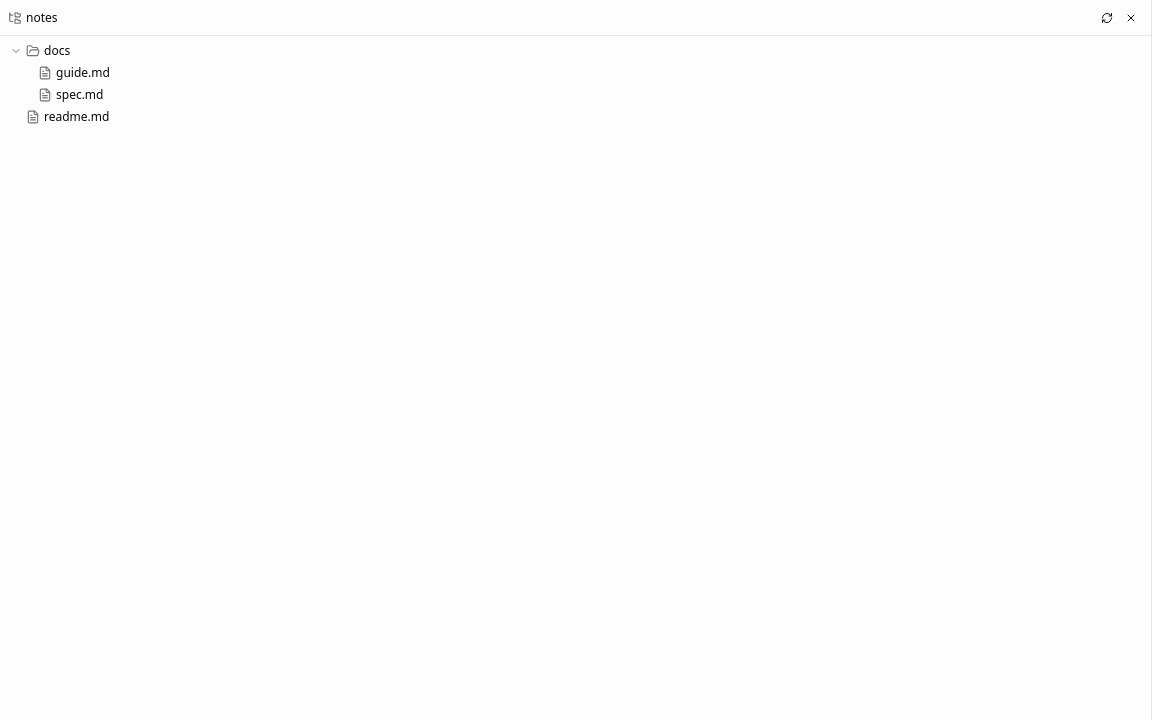
Test case: FileTree › 非法名称就地提示并禁用确认按钮
Right-click the text "readme.md": point(77, 117) [44,109,109,125]
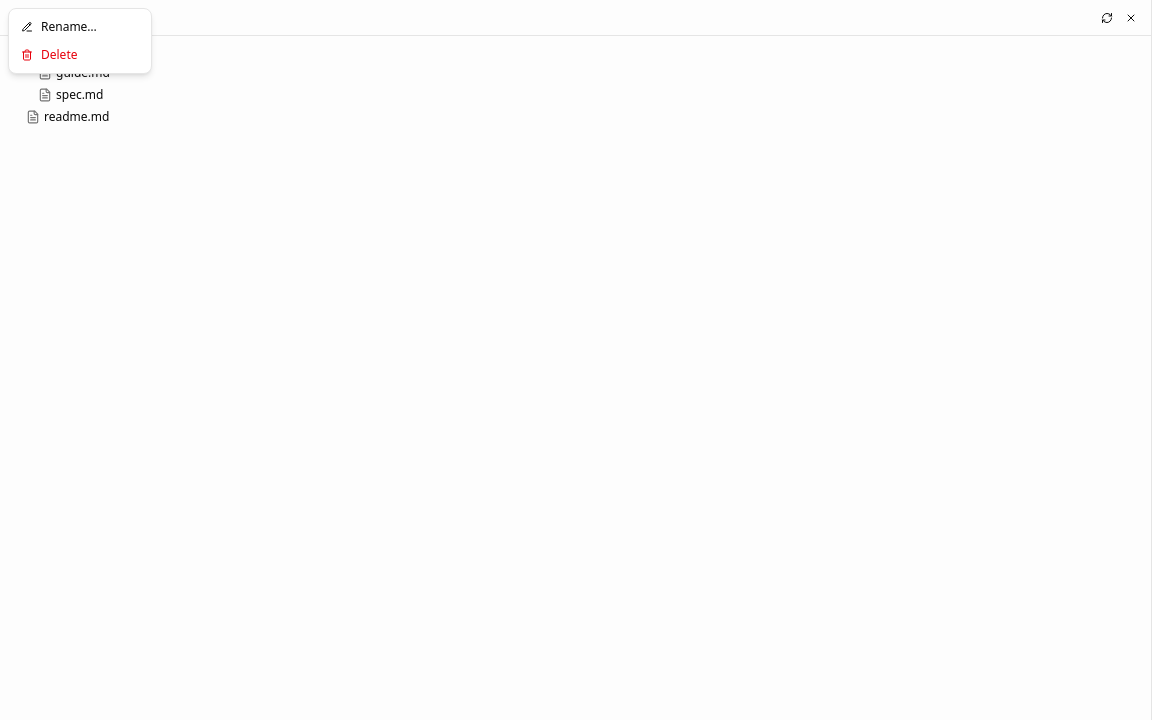
Click the menu item "Rename…": point(80, 27) [13,13,147,41]
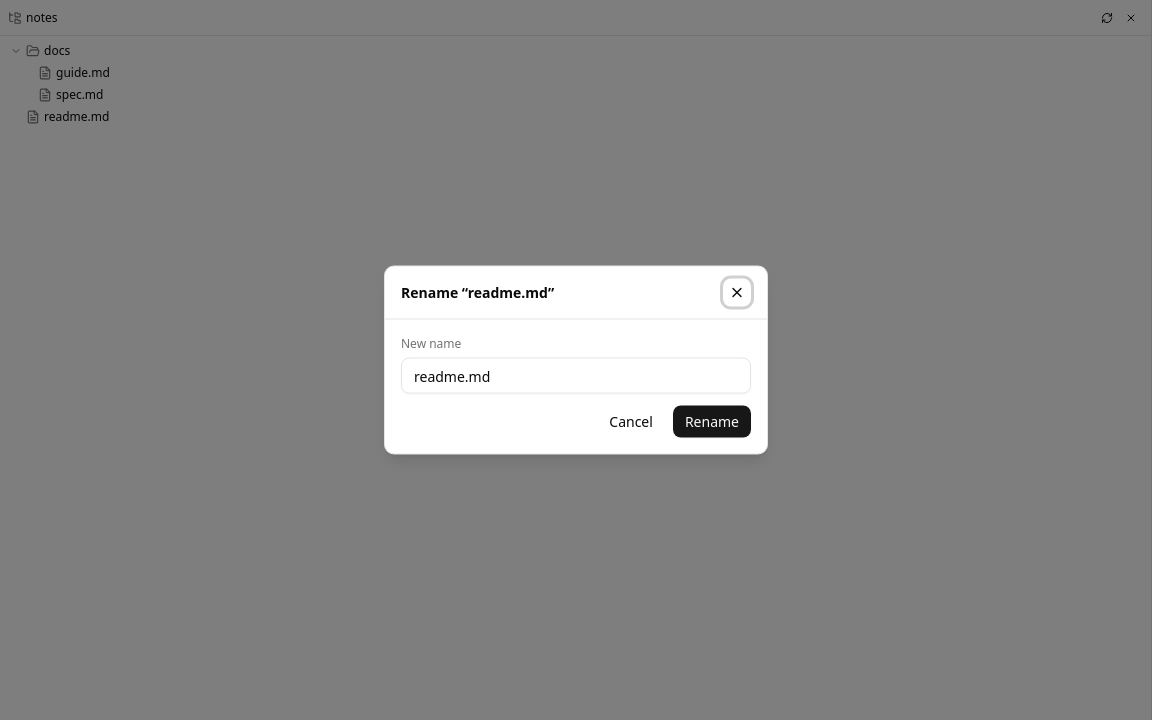
Replace the text in the field labelled "New name" with "bad/name.md": point(576, 376) [401,358,751,394]
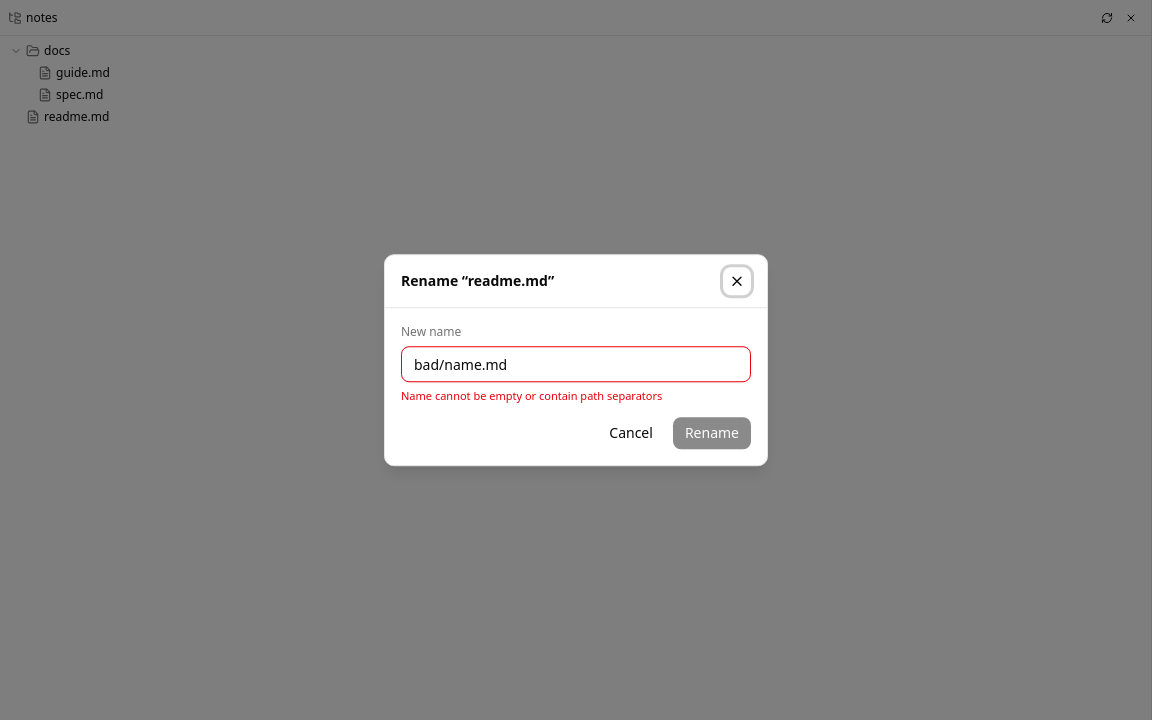
Expected: the text "Name cannot be empty or contain path separators" is shown, [401,388,662,403]
Expected: the button "Rename" is disabled, [673,417,751,449]
Note: 改回合法名称后恢复可提交
Replace the text in the field labelled "New name" with "good-name.md": point(576, 364) [401,346,751,382]
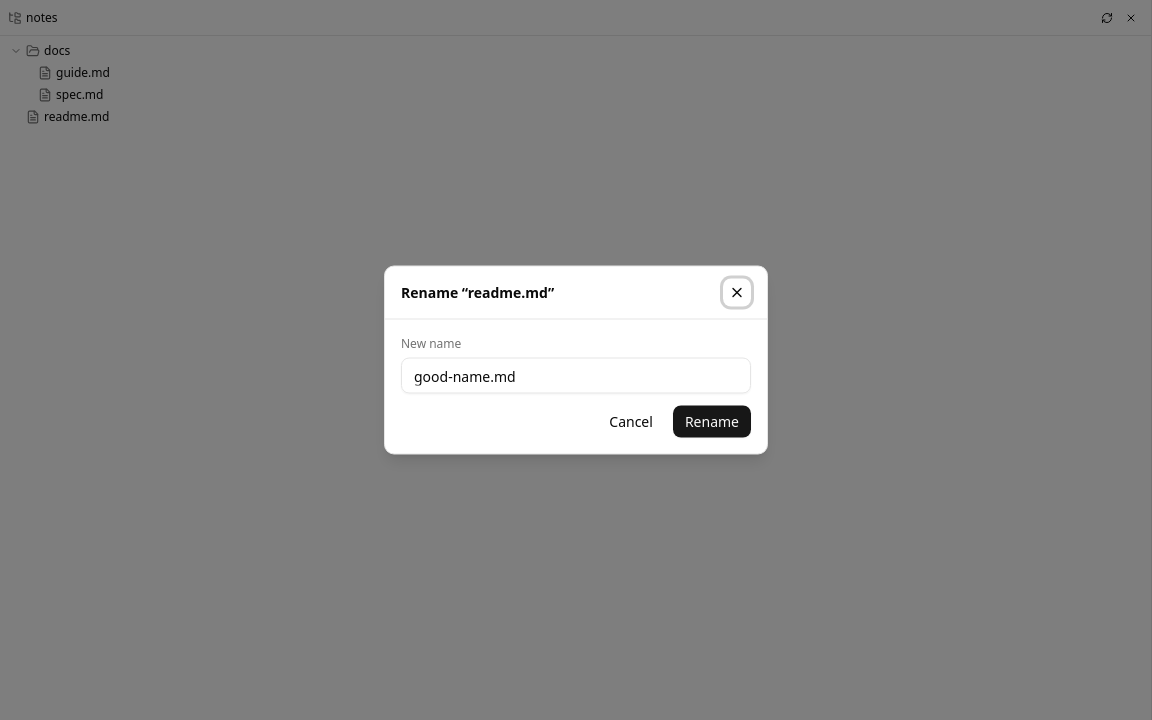
Expected: the text "Name cannot be empty or contain path separators" is gone
Expected: the button "Rename" is enabled, [673,406,751,438]
